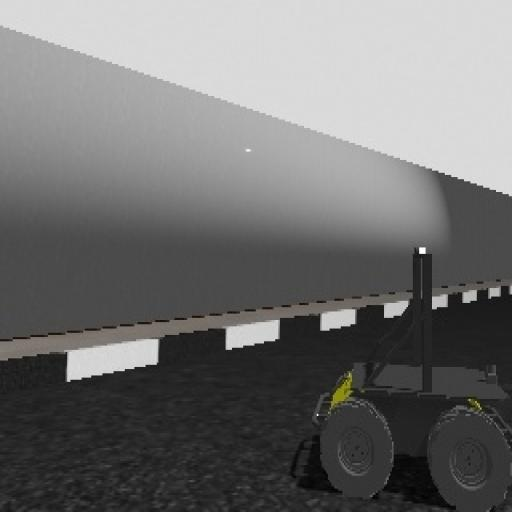huskya200: (319, 234, 512, 507)
